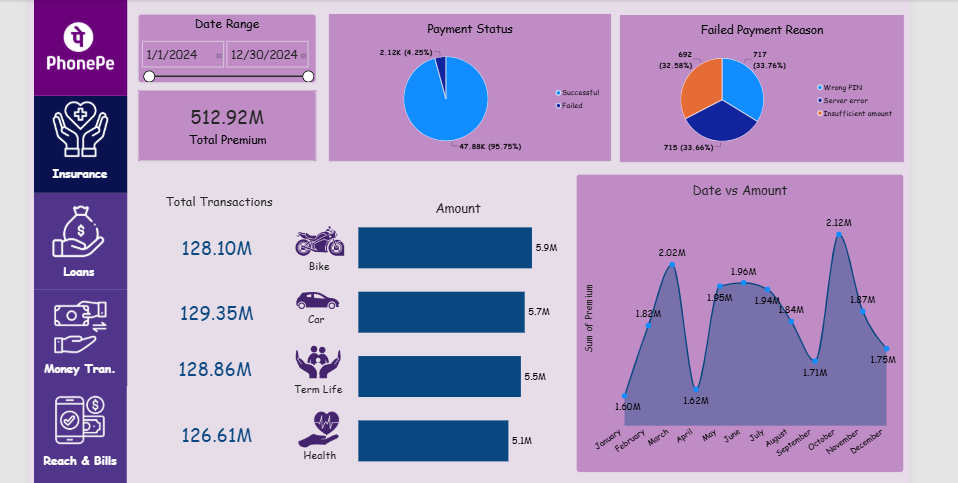

This screenshot's page, from the dashboard's own definition file:
{"tool":"powerbi","page":{"name":"Insurance","canvas":[1920,1080],"ordinal":1},"visuals":[{"type":"shape","box":[9.9,0,203,210.9],"z":0},{"type":"shape","box":[9.9,210.9,203,210.9],"z":1000},{"type":"shape","box":[9.9,421.8,203,210.9],"z":2000},{"type":"shape","box":[9.9,632.6,203,208.9],"z":3000},{"type":"shape","box":[10,840,202,226],"z":4000},{"type":"image","box":[33.5,15.8,157.7,181.3],"z":5000},{"type":"image","box":[25.6,210.9,171.5,143.9],"z":6000},{"type":"image","box":[31.5,441.5,157.7,124.2],"z":7000},{"type":"image","box":[27.6,650.4,167.5,126.1],"z":8000},{"type":"image","box":[35.5,855.3,151.8,122.2],"z":9000},{"type":"shape","box":[37.4,335,147.8,86.7],"z":10000},{"type":"shape","box":[35.5,565.6,147.8,51.2],"z":11000},{"type":"shape","box":[17.7,776.5,187.2,51.2],"z":12000},{"type":"shape","box":[17.7,977.5,187.2,51.2],"z":13000},{"type":"slicer","title":"Date Range","fields":{"Values":["Recharge_Bills.Date"]},"box":[238,32,388,150],"z":14000},{"type":"cardVisual","fields":{"Data":["Sum(Insurance.Premium)"]},"box":[238,198,388,154],"z":15000},{"type":"pieChart","title":"Payment Status","fields":{"Category":["Insurance.Payment_Status"],"Y":["CountNonNull(Insurance.Payment_Status)"]},"box":[652.5,32.5,614,320],"z":16000},{"type":"actionButton","box":[0,420,212,210],"z":17000},{"type":"actionButton","box":[6,632,212,210],"z":18000},{"type":"actionButton","box":[0,856,212,210],"z":19000},{"type":"actionButton","box":[0,2,212,210],"z":20000},{"type":"pieChart","title":"Failed Payment Reason","fields":{"Category":["Insurance.Reason"],"Y":["Count(Insurance.Transaction_ID)"]},"box":[1286,34,618,320],"z":21000},{"type":"areaChart","title":"Date vs Amount","fields":{"Category":["Insurance.Date.Variation.Date Hierarchy.Month"],"Y":["Sum(Insurance.Premium)"]},"box":[1190,380,714,650],"z":22000},{"type":"barChart","title":"Amount","fields":{"Category":["Insurance.Insurance_Type"],"Y":["Sum(Insurance.Premium)"]},"box":[702,420,466,610],"z":23000},{"type":"image","box":[568,488,130,78],"z":24000},{"type":"image","box":[540,618,180,74],"z":25000},{"type":"image","box":[558,754,144,74],"z":26000},{"type":"image","box":[572,898,116,80],"z":27000},{"type":"textbox","box":[255,423.3,318.3,65],"z":28000},{"type":"cardVisual","fields":{"Data":["Sum(Insurance.Premium)"]},"box":[288,490,242,102],"z":29000},{"type":"cardVisual","fields":{"Data":["Sum(Insurance.Premium)"]},"box":[288,754,234,102],"z":30000},{"type":"cardVisual","fields":{"Data":["Sum(Insurance.Premium)"]},"box":[288,632,242,102],"z":31000},{"type":"cardVisual","fields":{"Data":["Sum(Insurance.Premium)"]},"box":[288,898,242,102],"z":32000},{"type":"textbox","box":[100,100,300,300],"z":33000},{"type":"shape","title":"Bike","box":[578,566,110,44],"z":34000},{"type":"shape","title":"Car","box":[570,682,110,44],"z":35000},{"type":"shape","title":"Term Life","box":[574,834,110,44],"z":36000},{"type":"shape","title":"Health","box":[584,978,100,44],"z":37000}]}

Visuals, with their boxes on the page's 1920x1080 design canvas (x1, y1, x2, y2). These are canvas units, not pixel positions in the 958x483 screenshot, which may show the page scaled, cropped or inside an application window:
shape: <bbox>10, 0, 213, 211</bbox>
shape: <bbox>10, 211, 213, 422</bbox>
shape: <bbox>10, 422, 213, 633</bbox>
shape: <bbox>10, 633, 213, 842</bbox>
shape: <bbox>10, 840, 212, 1066</bbox>
image: <bbox>34, 16, 191, 197</bbox>
image: <bbox>26, 211, 197, 355</bbox>
image: <bbox>32, 442, 189, 566</bbox>
image: <bbox>28, 650, 195, 776</bbox>
image: <bbox>36, 855, 187, 978</bbox>
shape: <bbox>37, 335, 185, 422</bbox>
shape: <bbox>36, 566, 183, 617</bbox>
shape: <bbox>18, 776, 205, 828</bbox>
shape: <bbox>18, 978, 205, 1029</bbox>
"Date Range" slicer: <bbox>238, 32, 626, 182</bbox>
cardVisual - Sum(Insurance.Premium): <bbox>238, 198, 626, 352</bbox>
"Payment Status" pieChart: <bbox>652, 32, 1266, 352</bbox>
actionButton: <bbox>0, 420, 212, 630</bbox>
actionButton: <bbox>6, 632, 218, 842</bbox>
actionButton: <bbox>0, 856, 212, 1066</bbox>
actionButton: <bbox>0, 2, 212, 212</bbox>
"Failed Payment Reason" pieChart: <bbox>1286, 34, 1904, 354</bbox>
"Date vs Amount" areaChart: <bbox>1190, 380, 1904, 1030</bbox>
"Amount" barChart: <bbox>702, 420, 1168, 1030</bbox>
image: <bbox>568, 488, 698, 566</bbox>
image: <bbox>540, 618, 720, 692</bbox>
image: <bbox>558, 754, 702, 828</bbox>
image: <bbox>572, 898, 688, 978</bbox>
textbox: <bbox>255, 423, 573, 488</bbox>
cardVisual - Sum(Insurance.Premium): <bbox>288, 490, 530, 592</bbox>
cardVisual - Sum(Insurance.Premium): <bbox>288, 754, 522, 856</bbox>
cardVisual - Sum(Insurance.Premium): <bbox>288, 632, 530, 734</bbox>
cardVisual - Sum(Insurance.Premium): <bbox>288, 898, 530, 1000</bbox>
textbox: <bbox>100, 100, 400, 400</bbox>
"Bike" shape: <bbox>578, 566, 688, 610</bbox>
"Car" shape: <bbox>570, 682, 680, 726</bbox>
"Term Life" shape: <bbox>574, 834, 684, 878</bbox>
"Health" shape: <bbox>584, 978, 684, 1022</bbox>
